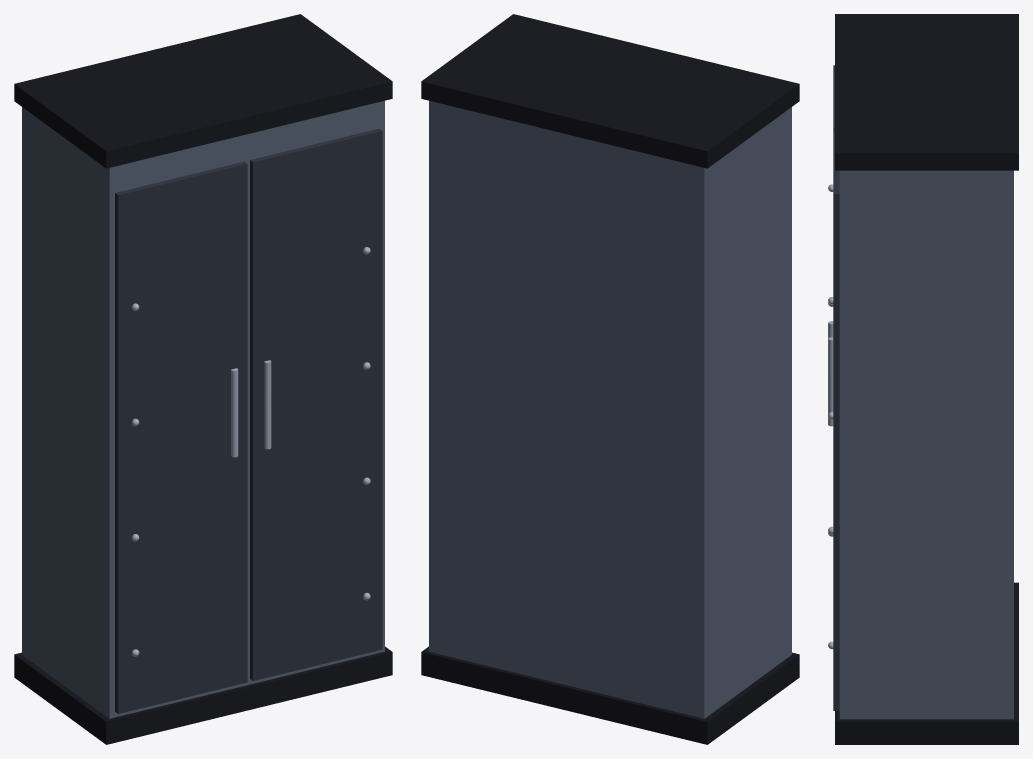
Rendered from wardrobe_cool_0.glb.
3 renders of one model, left to right at view 1: azimuth 30°, elevation 25°; view 2: azimuth 150°, elevation 25°; view 3: azimuth 270°, elevation 25°, orthographic.
Bounding box in the file's own units: 1.04 × 2.06 × 0.602.
